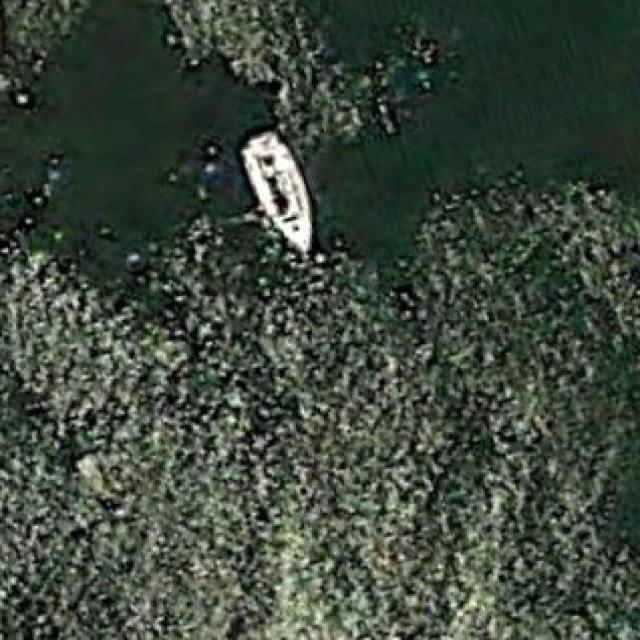ship: (244, 131, 320, 259)
